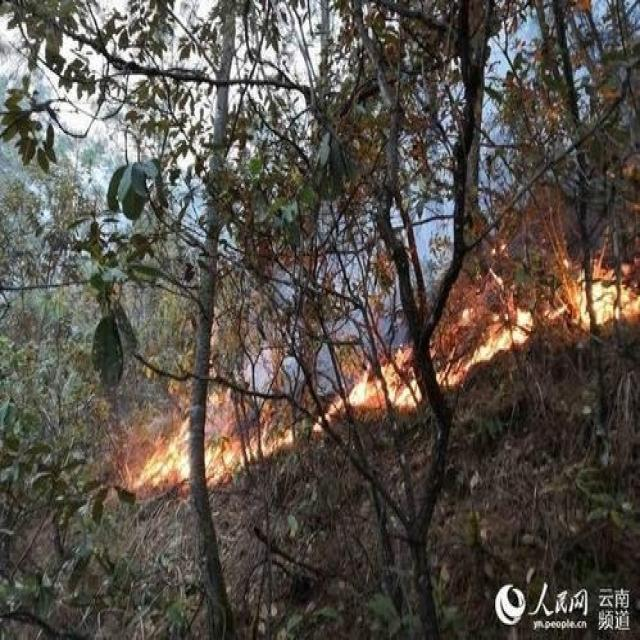Fire: (310, 302, 536, 432), (132, 384, 296, 488), (556, 264, 640, 336)
